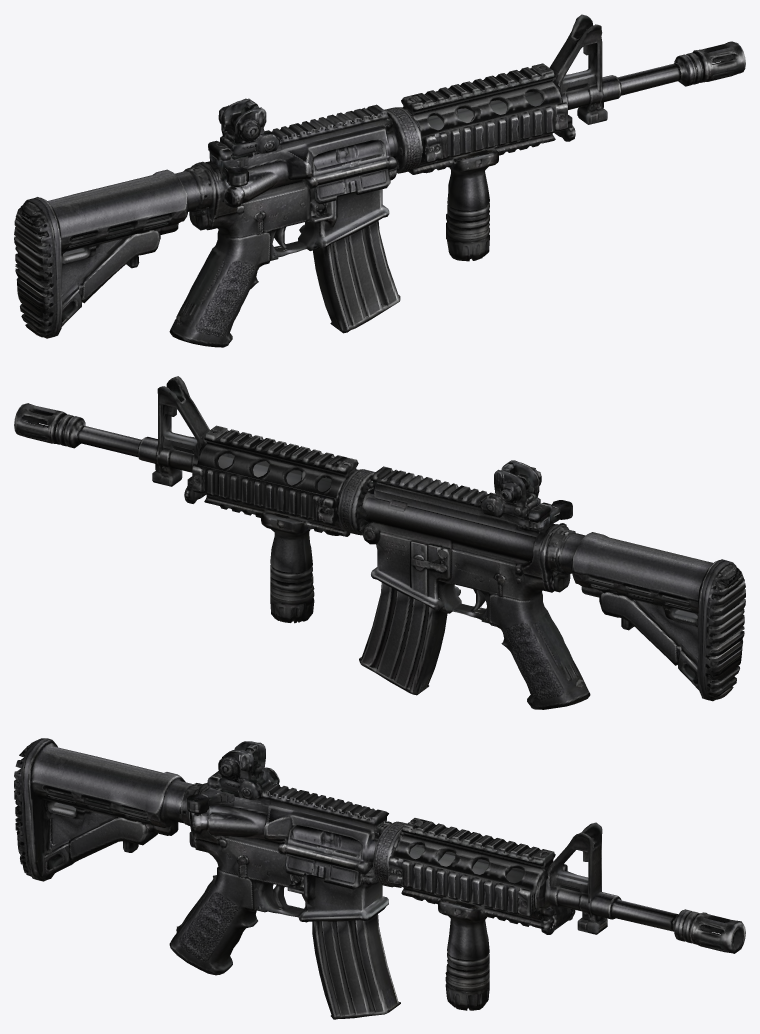
File: wolfstrike_m4a1.glb
The picture shows the model from 3 angles, top to bottom: view 1: azimuth 30°, elevation 25°; view 2: azimuth 150°, elevation 25°; view 3: azimuth 330°, elevation 25°; orthographic projection.
Parts seen in each view (by area): view 1: tripo_node_30c4bb06-2bbf-4fad-9732-9dc0b2c97b3d; view 2: tripo_node_30c4bb06-2bbf-4fad-9732-9dc0b2c97b3d; view 3: tripo_node_30c4bb06-2bbf-4fad-9732-9dc0b2c97b3d.
Boxes of the visible parts, bbox=[...] form: tripo_node_30c4bb06-2bbf-4fad-9732-9dc0b2c97b3d: bbox=[14, 14, 745, 347]; tripo_node_30c4bb06-2bbf-4fad-9732-9dc0b2c97b3d: bbox=[14, 376, 745, 709]; tripo_node_30c4bb06-2bbf-4fad-9732-9dc0b2c97b3d: bbox=[14, 738, 745, 1019].
Bounding box in the file's own units: 0.9799 × 0.3279 × 0.1074.
Materials: 1 (1 with a texture image).
